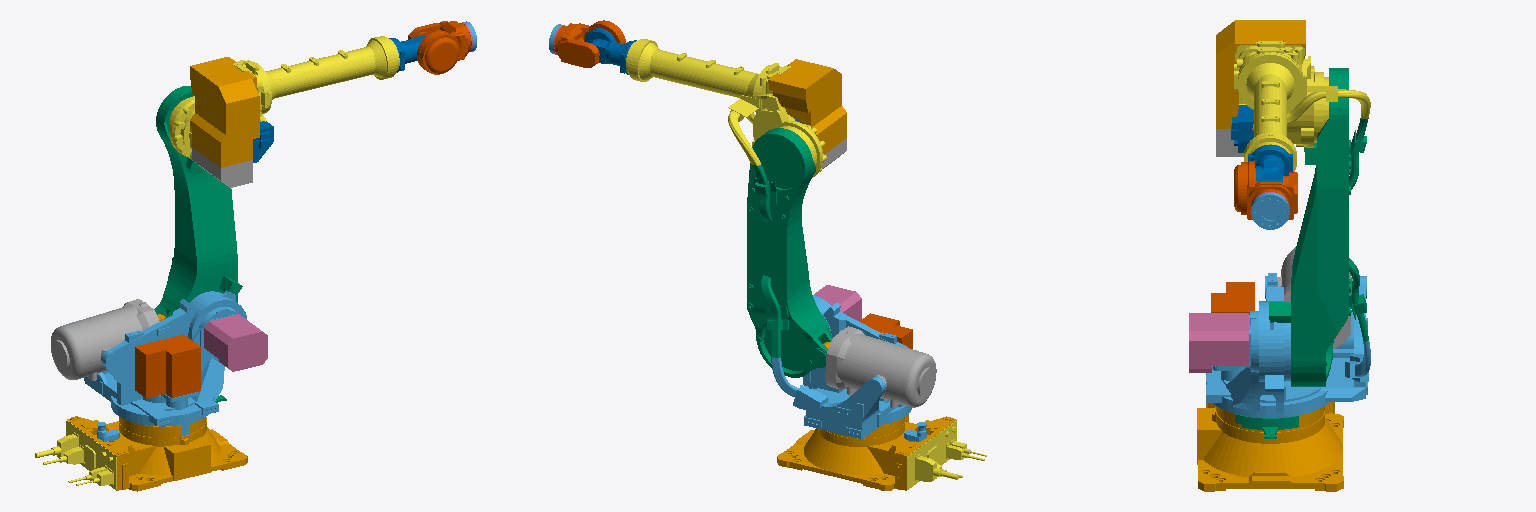
The robot description file, URDF, robot "yefan":
<?xml version="1.0" encoding="utf-8"?>
<!-- =================================================================================== -->
<!-- |    This document was autogenerated by xacro from yefan_description/robots/yefan.urdf.xacro | -->
<!-- |    EDITING THIS FILE BY HAND IS NOT RECOMMENDED                                 | -->
<!-- =================================================================================== -->
<robot name="yefan" xmlns:xacro="http://www.ros.org/wiki/xacro">
  <joint name="joint1" type="revolute">
    <origin rpy="0 0 0" xyz="0 0 0.346"/>
    <parent link="link1"/>
    <child link="link2"/>
    <axis xyz="0 0 1"/>



  </joint>
  <joint name="joint2" type="revolute">
    <origin rpy="0 0 0" xyz="0.312 0 0.324"/>
    <parent link="link2"/>
    <child link="link3"/>
    <axis xyz="0 1 0"/>



  </joint>
  <joint name="joint3" type="revolute">
    <origin rpy="0 0 0" xyz="0 0 1.075"/>
    <parent link="link3"/>
    <child link="link4"/>
    <axis xyz="0 -1 0"/>



  </joint>
  <joint name="joint4" type="revolute">
    <origin rpy="0 0 0" xyz="0 0 0.225"/>
    <parent link="link4"/>
    <child link="link5"/>
    <axis xyz="-1 0 0"/>



  </joint>
  <joint name="joint5" type="revolute">
    <origin rpy="0 0 0" xyz="1.28 0 0"/>
    <parent link="link5"/>
    <child link="link6"/>
    <axis xyz="0 -1 0"/>



  </joint>
  <joint name="joint6" type="revolute">
    <origin rpy="0 0 0" xyz="0.215 0 0"/>
    <parent link="link6"/>
    <child link="link7"/>
    <axis xyz="-1 0 0"/>



  </joint>
  <link name="link1">
    <inertial>
      <mass value="550"/>
      <origin xyz="0 0 0"/>
      <inertia ixx="27.0" ixy="0.0" ixz="0.0" iyy="27.0" iyz="0.0" izz="27.0"/>
    </inertial>
    <collision>
      <origin rpy="0 0 0" xyz="0 0 0"/>
      <geometry>
        <mesh filename="../../yefan_description/meshes/J1.STL"/>
      </geometry>
    </collision>
    <visual>
      <origin rpy="0 0 0" xyz="0 0 0"/>
      <geometry>
        <mesh filename="../../yefan_description/meshes/J1.STL"/>
      </geometry>
    </visual>
  </link>
  <link name="link2">
    <inertial>
      <mass value="250"/>
      <origin xyz="0 0 0"/>
      <inertia ixx="12.0" ixy="0.0" ixz="0.0" iyy="12.0" iyz="0.0" izz="12.0"/>
    </inertial>
    <collision>
      <origin rpy="0 0 0" xyz="0 0 -0.346"/>
      <geometry>
        <mesh filename="../../yefan_description/meshes/J2Base.STL"/>
      </geometry>
    </collision>
    <visual>
      <origin rpy="0 0 0" xyz="0 0 -0.346"/>
      <geometry>
        <mesh filename="../../yefan_description/meshes/J2Base.STL"/>
      </geometry>
    </visual>
  </link>
  <link name="link3">
    <inertial>
      <mass value="60"/>
      <origin xyz="0 0 0"/>
      <inertia ixx="3.0" ixy="0.0" ixz="0.0" iyy="3.0" iyz="0.0" izz="3.0"/>
    </inertial>
    <collision>
      <origin rpy="0 0 0" xyz="-0.312 0 -0.67"/>
      <geometry>
        <mesh filename="../../yefan_description/meshes/J2Arm.STL"/>
      </geometry>
    </collision>
    <visual>
      <origin rpy="0 0 0" xyz="-0.312 0 -0.67"/>
      <geometry>
        <mesh filename="../../yefan_description/meshes/J2Arm.STL"/>
      </geometry>
    </visual>
  </link>
  <link name="link4">
    <inertial>
      <mass value="30"/>
      <origin xyz="0 0 0"/>
      <inertia ixx="1.5" ixy="0.0" ixz="0.0" iyy="1.5" iyz="0.0" izz="1.5"/>
    </inertial>
    <collision>
      <origin rpy="0 0 0" xyz="-0.312 0 -1.745"/>
      <geometry>
        <mesh filename="../../yefan_description/meshes/J3.STL"/>
      </geometry>
    </collision>
    <visual>
      <origin rpy="0 0 0" xyz="-0.312 0 -1.745"/>
      <geometry>
        <mesh filename="../../yefan_description/meshes/J3.STL"/>
      </geometry>
    </visual>
  </link>
  <link name="link5">
    <inertial>
      <mass value="15"/>
      <origin xyz="0 0 0"/>
      <inertia ixx="0.7" ixy="0.0" ixz="0.0" iyy="0.7" iyz="0.0" izz="0.7"/>
    </inertial>
    <collision>
      <origin rpy="0 0 0" xyz="-0.312 0 -1.97"/>
      <geometry>
        <mesh filename="../../yefan_description/meshes/J4.STL"/>
      </geometry>
    </collision>
    <visual>
      <origin rpy="0 0 0" xyz="-0.312 0 -1.97"/>
      <geometry>
        <mesh filename="../../yefan_description/meshes/J4.STL"/>
      </geometry>
    </visual>
  </link>
  <link name="link6">
    <inertial>
      <mass value="20"/>
      <origin xyz="0 0 0"/>
      <inertia ixx="1.0" ixy="0.0" ixz="0.0" iyy="1.0" iyz="0.0" izz="1.0"/>
    </inertial>
    <collision>
      <origin rpy="0 0 0" xyz="-1.592 0 -1.97"/>
      <geometry>
        <mesh filename="../../yefan_description/meshes/J5.STL"/>
      </geometry>
    </collision>
    <visual>
      <origin rpy="0 0 0" xyz="-1.592 0 -1.97"/>
      <geometry>
        <mesh filename="../../yefan_description/meshes/J5.STL"/>
      </geometry>
    </visual>
  </link>
  <link name="link7">
    <inertial>
      <mass value="2"/>
      <origin xyz="0 0 0"/>
      <inertia ixx="0.1" ixy="0.0" ixz="0.0" iyy="0.1" iyz="0.0" izz="0.1"/>
    </inertial>
    <collision>
      <origin rpy="0 0 0" xyz="-1.807 0 -1.97"/>
      <geometry>
        <mesh filename="../../yefan_description/meshes/J6.STL"/>
      </geometry>
    </collision>
    <visual>
      <origin rpy="0 0 0" xyz="-1.807 0 -1.97"/>
      <geometry>
        <mesh filename="../../yefan_description/meshes/J6.STL"/>
      </geometry>
    </visual>
  </link>
  <gazebo reference="link1">
    <material>Gazebo/Black</material>
  </gazebo>
  <gazebo reference="link2">
    <material>Gazebo/Yellow</material>
  </gazebo>
  <gazebo reference="link3">
    <material>Gazebo/Yellow</material>
  </gazebo>
  <gazebo reference="link4">
    <material>Gazebo/Yellow</material>
  </gazebo>
  <gazebo reference="link5">
    <material>Gazebo/Yellow</material>
  </gazebo>
  <gazebo reference="link6">
    <material>Gazebo/Yellow</material>
  </gazebo>
  <gazebo reference="link7">
    <material>Gazebo/White</material>
  </gazebo>
  <transmission name="joint1_transmssion">
    <type>transmission_interface/SimpleTransmission</type>
    <joint name="joint1">
      <hardwareInterface>hardware_interface/EffortJointInterface</hardwareInterface>
    </joint>
    <actuator name="joint1_motor">
      <hardwareInterface>EffortJointInterface</hardwareInterface>
      <mechanicalReduction>1</mechanicalReduction>
    </actuator>
  </transmission>
  <gazebo reference="joint1">
    <implicitSpringDamper>1</implicitSpringDamper>
  </gazebo>
  <transmission name="joint2_transmssion">
    <type>transmission_interface/SimpleTransmission</type>
    <joint name="joint2">
      <hardwareInterface>hardware_interface/EffortJointInterface</hardwareInterface>
    </joint>
    <actuator name="joint2_motor">
      <hardwareInterface>EffortJointInterface</hardwareInterface>
      <mechanicalReduction>1</mechanicalReduction>
    </actuator>
  </transmission>
  <gazebo reference="joint2">
    <implicitSpringDamper>1</implicitSpringDamper>
  </gazebo>
  <transmission name="joint3_transmssion">
    <type>transmission_interface/SimpleTransmission</type>
    <joint name="joint3">
      <hardwareInterface>hardware_interface/EffortJointInterface</hardwareInterface>
    </joint>
    <actuator name="joint3_motor">
      <hardwareInterface>EffortJointInterface</hardwareInterface>
      <mechanicalReduction>1</mechanicalReduction>
    </actuator>
  </transmission>
  <gazebo reference="joint3">
    <implicitSpringDamper>1</implicitSpringDamper>
  </gazebo>
  <transmission name="joint4_transmssion">
    <type>transmission_interface/SimpleTransmission</type>
    <joint name="joint4">
      <hardwareInterface>hardware_interface/EffortJointInterface</hardwareInterface>
    </joint>
    <actuator name="joint4_motor">
      <hardwareInterface>EffortJointInterface</hardwareInterface>
      <mechanicalReduction>1</mechanicalReduction>
    </actuator>
  </transmission>
  <gazebo reference="joint4">
    <implicitSpringDamper>1</implicitSpringDamper>
  </gazebo>
  <transmission name="joint5_transmssion">
    <type>transmission_interface/SimpleTransmission</type>
    <joint name="joint5">
      <hardwareInterface>hardware_interface/EffortJointInterface</hardwareInterface>
    </joint>
    <actuator name="joint5_motor">
      <hardwareInterface>EffortJointInterface</hardwareInterface>
      <mechanicalReduction>1</mechanicalReduction>
    </actuator>
  </transmission>
  <gazebo reference="joint5">
    <implicitSpringDamper>1</implicitSpringDamper>
  </gazebo>
  <transmission name="joint6_transmssion">
    <type>transmission_interface/SimpleTransmission</type>
    <joint name="joint6">
      <hardwareInterface>hardware_interface/EffortJointInterface</hardwareInterface>
    </joint>
    <actuator name="joint6_motor">
      <hardwareInterface>EffortJointInterface</hardwareInterface>
      <mechanicalReduction>1</mechanicalReduction>
    </actuator>
  </transmission>
  <gazebo reference="joint6">
    <implicitSpringDamper>1</implicitSpringDamper>
  </gazebo>
  <joint name="joint_balancercase" type="fixed">
    <origin rpy="0 0 0" xyz="0 0 0"/>
    <parent link="link2"/>
    <child link="link_balancercase"/>
  </joint>
  <link name="link_balancercase">
    <inertial>
      <mass value="150"/>
      <origin xyz="0 0 0"/>
      <inertia ixx="0.0" ixy="0.0" ixz="0.0" iyy="0.0" iyz="0.0" izz="0.0"/>
    </inertial>
    <collision>
      <origin rpy="0 0 0" xyz="0 0 -0.346"/>
      <geometry>
        <mesh filename="../../yefan_description/meshes/BalancerCase.STL"/>
      </geometry>
    </collision>
    <visual>
      <origin rpy="0 0 0" xyz="0 0 -0.346"/>
      <geometry>
        <mesh filename="../../yefan_description/meshes/BalancerCase.STL"/>
      </geometry>
    </visual>
  </link>
  <gazebo reference="link_balancercase">
    <material>Gazebo/Yellow</material>
  </gazebo>
  <joint name="joint_balancerrod" type="fixed">
    <origin rpy="0 0 0" xyz="0 0 0"/>
    <parent link="link2"/>
    <child link="link_balancerrod"/>
  </joint>
  <link name="link_balancerrod">
    <inertial>
      <mass value="15"/>
      <origin xyz="0 0 0"/>
      <inertia ixx="0.0" ixy="0.0" ixz="0.0" iyy="0.0" iyz="0.0" izz="0.0"/>
    </inertial>
    <collision>
      <origin rpy="0 0 0" xyz="0 0 -0.346"/>
      <geometry>
        <mesh filename="../../yefan_description/meshes/BalancerRod.STL"/>
      </geometry>
    </collision>
    <visual>
      <origin rpy="0 0 0" xyz="0 0 -0.346"/>
      <geometry>
        <mesh filename="../../yefan_description/meshes/BalancerRod.STL"/>
      </geometry>
    </visual>
  </link>
  <gazebo reference="link_balancerrod">
    <material>Gazebo/Yellow</material>
  </gazebo>
  <joint name="joint_stopper1a" type="fixed">
    <origin rpy="0 0 0" xyz="0 0 0"/>
    <parent link="link1"/>
    <child link="link_stopper1a"/>
  </joint>
  <link name="link_stopper1a">
    <inertial>
      <mass value="2"/>
      <origin xyz="0 0 0"/>
      <inertia ixx="0.0" ixy="0.0" ixz="0.0" iyy="0.0" iyz="0.0" izz="0.0"/>
    </inertial>
    <collision>
      <origin rpy="0 0 0" xyz="0 0 0"/>
      <geometry>
        <mesh filename="../../yefan_description/meshes/stopper_J1_A.STL"/>
      </geometry>
    </collision>
    <visual>
      <origin rpy="0 0 0" xyz="0 0 0"/>
      <geometry>
        <mesh filename="../../yefan_description/meshes/stopper_J1_A.STL"/>
      </geometry>
    </visual>
  </link>
  <gazebo reference="link_stopper1a">
    <material>Gazebo/Red</material>
  </gazebo>
  <joint name="joint_stopper1b" type="fixed">
    <origin rpy="0 0 0" xyz="0 0 0"/>
    <parent link="link1"/>
    <child link="link_stopper1b"/>
  </joint>
  <link name="link_stopper1b">
    <inertial>
      <mass value="2"/>
      <origin xyz="0 0 0"/>
      <inertia ixx="0.0" ixy="0.0" ixz="0.0" iyy="0.0" iyz="0.0" izz="0.0"/>
    </inertial>
    <collision>
      <origin rpy="0 0 0" xyz="0 0 0"/>
      <geometry>
        <mesh filename="../../yefan_description/meshes/stopper_J1_B.STL"/>
      </geometry>
    </collision>
    <visual>
      <origin rpy="0 0 0" xyz="0 0 0"/>
      <geometry>
        <mesh filename="../../yefan_description/meshes/stopper_J1_B.STL"/>
      </geometry>
    </visual>
  </link>
  <gazebo reference="link_stopper1b">
    <material>Gazebo/Red</material>
  </gazebo>
  <joint name="joint_h501_j1" type="fixed">
    <origin rpy="0 0 0" xyz="0 0 0"/>
    <parent link="link1"/>
    <child link="link_h501_j1"/>
  </joint>
  <link name="link_h501_j1">
    <inertial>
      <mass value="5"/>
      <origin xyz="0 0 0"/>
      <inertia ixx="0.0" ixy="0.0" ixz="0.0" iyy="0.0" iyz="0.0" izz="0.0"/>
    </inertial>
    <collision>
      <origin rpy="0 0 0" xyz="0 0 0"/>
      <geometry>
        <mesh filename="../../yefan_description/meshes/H501_J1.STL"/>
      </geometry>
    </collision>
    <visual>
      <origin rpy="0 0 0" xyz="0 0 0"/>
      <geometry>
        <mesh filename="../../yefan_description/meshes/H501_J1.STL"/>
      </geometry>
    </visual>
  </link>
  <gazebo reference="link_h501_j1">
    <material>Gazebo/Blue</material>
  </gazebo>
  <joint name="joint_h501_j3" type="fixed">
    <origin rpy="0 0 0" xyz="0 0 0"/>
    <parent link="link4"/>
    <child link="link_h501_j3"/>
  </joint>
  <link name="link_h501_j3">
    <inertial>
      <mass value="5"/>
      <origin xyz="0 0 0"/>
      <inertia ixx="0.0" ixy="0.0" ixz="0.0" iyy="0.0" iyz="0.0" izz="0.0"/>
    </inertial>
    <collision>
      <origin rpy="0 0 0" xyz="-0.312 0 -1.745"/>
      <geometry>
        <mesh filename="../../yefan_description/meshes/H501_J3.STL"/>
      </geometry>
    </collision>
    <visual>
      <origin rpy="0 0 0" xyz="-0.312 0 -1.745"/>
      <geometry>
        <mesh filename="../../yefan_description/meshes/H501_J3.STL"/>
      </geometry>
    </visual>
  </link>
  <gazebo reference="link_h501_j3">
    <material>Gazebo/Blue</material>
  </gazebo>
  <joint name="joint_mcover1" type="fixed">
    <origin rpy="0 0 0" xyz="0 0 0"/>
    <parent link="link2"/>
    <child link="link_mcover1"/>
  </joint>
  <link name="link_mcover1">
    <inertial>
      <mass value="10"/>
      <origin xyz="0 0 0"/>
      <inertia ixx="0.0" ixy="0.0" ixz="0.0" iyy="0.0" iyz="0.0" izz="0.0"/>
    </inertial>
    <collision>
      <origin rpy="0 0 0" xyz="0 0 -0.346"/>
      <geometry>
        <mesh filename="../../yefan_description/meshes/MotorCover_J1.STL"/>
      </geometry>
    </collision>
    <visual>
      <origin rpy="0 0 0" xyz="0 0 -0.346"/>
      <geometry>
        <mesh filename="../../yefan_description/meshes/MotorCover_J1.STL"/>
      </geometry>
    </visual>
  </link>
  <gazebo reference="link_mcover1">
    <material>Gazebo/Black</material>
  </gazebo>
  <joint name="joint_mcover2" type="fixed">
    <origin rpy="0 0 0" xyz="0 0 0"/>
    <parent link="link2"/>
    <child link="link_mcover2"/>
  </joint>
  <link name="link_mcover2">
    <inertial>
      <mass value="10"/>
      <origin xyz="0 0 0"/>
      <inertia ixx="0.0" ixy="0.0" ixz="0.0" iyy="0.0" iyz="0.0" izz="0.0"/>
    </inertial>
    <collision>
      <origin rpy="0 0 0" xyz="0 0 -0.346"/>
      <geometry>
        <mesh filename="../../yefan_description/meshes/MotorCover_J2.STL"/>
      </geometry>
    </collision>
    <visual>
      <origin rpy="0 0 0" xyz="0 0 -0.346"/>
      <geometry>
        <mesh filename="../../yefan_description/meshes/MotorCover_J2.STL"/>
      </geometry>
    </visual>
  </link>
  <gazebo reference="link_mcover2">
    <material>Gazebo/Black</material>
  </gazebo>
  <joint name="joint_mcover3" type="fixed">
    <origin rpy="0 0 0" xyz="0 0 0"/>
    <parent link="link4"/>
    <child link="link_mcover3"/>
  </joint>
  <link name="link_mcover3">
    <inertial>
      <mass value="5"/>
      <origin xyz="0 0 0"/>
      <inertia ixx="0.0" ixy="0.0" ixz="0.0" iyy="0.0" iyz="0.0" izz="0.0"/>
    </inertial>
    <collision>
      <origin rpy="0 0 0" xyz="-0.312 0 -1.745"/>
      <geometry>
        <mesh filename="../../yefan_description/meshes/MotorCover_J3456_bottom.STL"/>
      </geometry>
    </collision>
    <visual>
      <origin rpy="0 0 0" xyz="-0.312 0 -1.745"/>
      <geometry>
        <mesh filename="../../yefan_description/meshes/MotorCover_J3456_bottom.STL"/>
      </geometry>
    </visual>
  </link>
  <gazebo reference="link_mcover3">
    <material>Gazebo/Red</material>
  </gazebo>
  <joint name="joint_mcover3_top" type="fixed">
    <origin rpy="0 0 0" xyz="0 0 0"/>
    <parent link="link4"/>
    <child link="link_mcover3_top"/>
  </joint>
  <link name="link_mcover3_top">
    <inertial>
      <mass value="5"/>
      <origin xyz="0 0 0"/>
      <inertia ixx="0.0" ixy="0.0" ixz="0.0" iyy="0.0" iyz="0.0" izz="0.0"/>
    </inertial>
    <collision>
      <origin rpy="0 0 0" xyz="-0.312 0 -1.745"/>
      <geometry>
        <mesh filename="../../yefan_description/meshes/MotorCover_J3456_top.STL"/>
      </geometry>
    </collision>
    <visual>
      <origin rpy="0 0 0" xyz="-0.312 0 -1.745"/>
      <geometry>
        <mesh filename="../../yefan_description/meshes/MotorCover_J3456_top.STL"/>
      </geometry>
    </visual>
  </link>
  <gazebo reference="link_mcover3_top">
    <material>Gazebo/Black</material>
  </gazebo>
  <joint name="joint_insflange" type="fixed">
    <origin rpy="0 0 0" xyz="0 0 0"/>
    <parent link="link7"/>
    <child link="link_insflange"/>
  </joint>
  <link name="link_insflange">
    <inertial>
      <mass value="3"/>
      <origin xyz="0 0 0"/>
      <inertia ixx="0.0" ixy="0.0" ixz="0.0" iyy="0.0" iyz="0.0" izz="0.0"/>
    </inertial>
    <collision>
      <origin rpy="0 0 0" xyz="-1.807 0 -1.97"/>
      <geometry>
        <mesh filename="../../yefan_description/meshes/insulated_flange.STL"/>
      </geometry>
    </collision>
    <visual>
      <origin rpy="0 0 0" xyz="-1.807 0 -1.97"/>
      <geometry>
        <mesh filename="../../yefan_description/meshes/insulated_flange.STL"/>
      </geometry>
    </visual>
  </link>
  <gazebo reference="link_insflange">
    <material>Gazebo/White</material>
  </gazebo>
  <link name="world"/>
  <joint name="grounding" type="fixed">
    <parent link="world"/>
    <child link="link1"/>
    <origin rpy="0 0 0" xyz="0 0 0"/>
  </joint>
  <gazebo>
    <plugin filename="libgazebo_ros_control.so" name="ros_control">
      <robotNamespace>/yefan</robotNamespace>
    </plugin>
  </gazebo>
</robot>

--- Facts derived from the render (not from the file) ---
The picture shows the robot from 3 angles, left to right: view 1: azimuth 30°, elevation 25°; view 2: azimuth 150°, elevation 25°; view 3: azimuth 270°, elevation 25°; orthographic projection.
Robot: yefan — 19 links, 18 joints (6 revolute, 12 fixed); root link world; default pose: every joint at zero.
Links seen in each view (by area): view 1: link3, link2, link1, link_mcover3_top, link4, link_balancercase, link_mcover1, link_mcover2, link_h501_j1, link6, link_mcover3, link5 (+1 smaller); view 2: link3, link4, link1, link2, link_balancercase, link_mcover3_top, link_h501_j1, link6, link5, link_mcover2, link_mcover1; view 3: link3, link1, link2, link4, link_mcover3_top, link_mcover2, link6, link5, link_mcover1, link_insflange, link_stopper1b, link_h501_j3 (+2 smaller).
Link boxes in pixels (bbox=[...]): link3: bbox=[154, 86, 242, 318]; link2: bbox=[72, 291, 246, 436]; link1: bbox=[67, 416, 247, 491]; link_mcover3_top: bbox=[190, 57, 259, 167]; link4: bbox=[169, 36, 399, 159]; link_balancercase: bbox=[51, 299, 159, 380]; link_mcover1: bbox=[135, 335, 200, 398]; link_mcover2: bbox=[204, 314, 267, 371]; link_h501_j1: bbox=[35, 420, 116, 489]; link6: bbox=[408, 21, 470, 74]; link_mcover3: bbox=[192, 147, 252, 187]; link5: bbox=[389, 35, 426, 72]; link3: bbox=[747, 128, 831, 377]; link4: bbox=[626, 39, 826, 177]; link1: bbox=[777, 414, 956, 490]; link2: bbox=[771, 295, 916, 438]; link_balancercase: bbox=[825, 326, 936, 407]; link_mcover3_top: bbox=[768, 59, 846, 154]; link_h501_j1: bbox=[907, 421, 986, 489]; link6: bbox=[554, 20, 625, 67]; link5: bbox=[585, 28, 636, 74]; link_mcover2: bbox=[814, 285, 861, 320]; link_mcover1: bbox=[859, 313, 912, 348]; link3: bbox=[1269, 68, 1368, 386]; link1: bbox=[1197, 402, 1343, 491]; link2: bbox=[1206, 273, 1370, 417]; link4: bbox=[1234, 41, 1370, 171]; link_mcover3_top: bbox=[1216, 20, 1305, 128]; link_mcover2: bbox=[1189, 313, 1248, 372]; link6: bbox=[1234, 161, 1297, 219]; link5: bbox=[1248, 145, 1292, 182]; link_mcover1: bbox=[1211, 282, 1254, 314]; link_insflange: bbox=[1251, 193, 1289, 229]; link_stopper1b: bbox=[1235, 414, 1298, 438]; link_h501_j3: bbox=[1231, 105, 1253, 152].
Size in the robot's own frame: 2.5 by 0.757 by 2.11 metres.
18 mesh visuals loaded from 18 distinct referenced files (18 binary STL).
